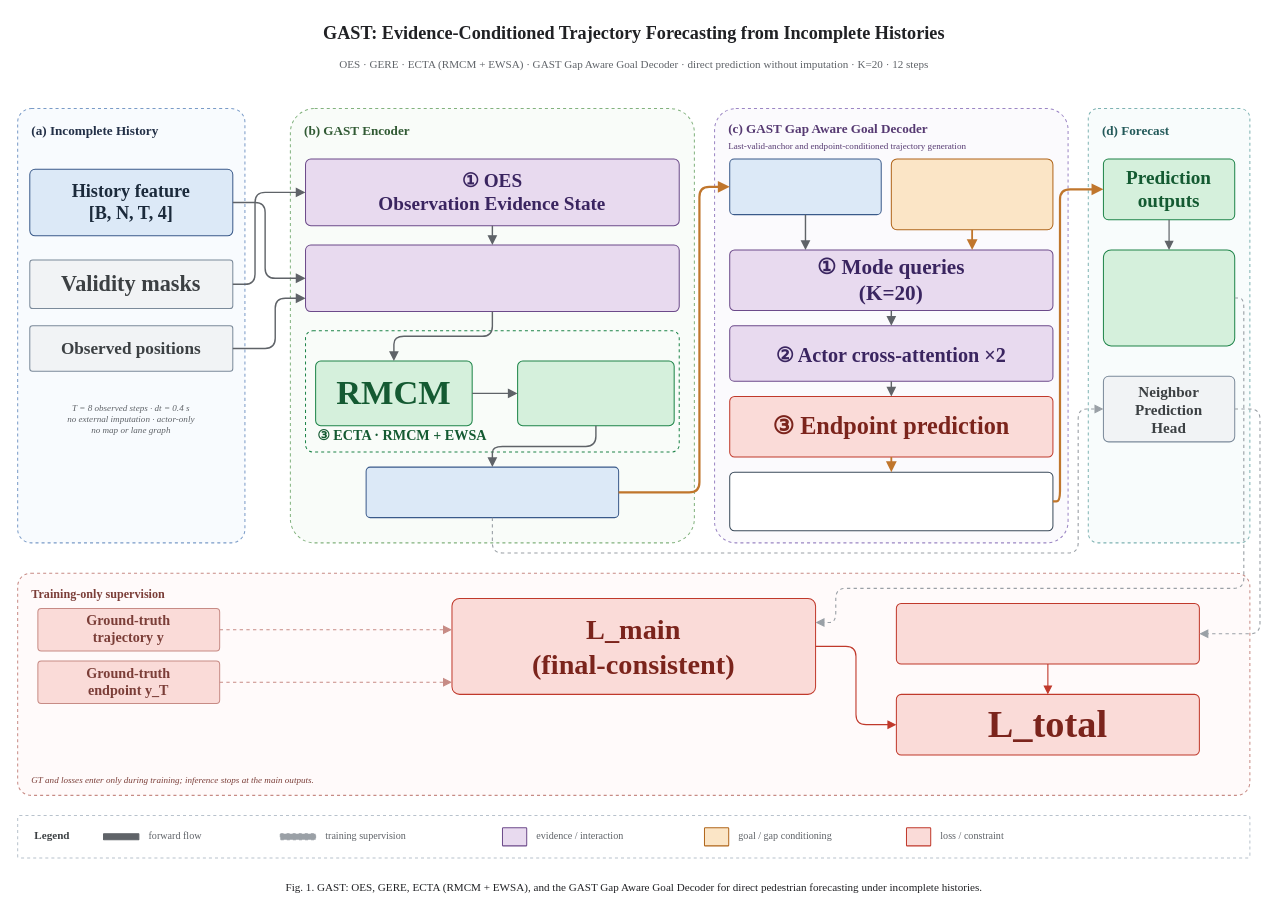
Some shapes in this 1287 by 915 pixel diagram are drawn without their labels. Each missing label, with the centre of its shape:
Actor Tokens [B, N, 128]: point (492, 492)
Anchor state (7-D): point (971, 194)
EWSA: point (595, 393)
Focal actor token: point (805, 186)
L_others: point (1047, 633)
Outputs (K=20): point (1168, 297)
② GERE · Geometry-Evidence Relational Encoding: point (492, 278)
④ Time-conditioned trajectory generation: point (891, 501)
